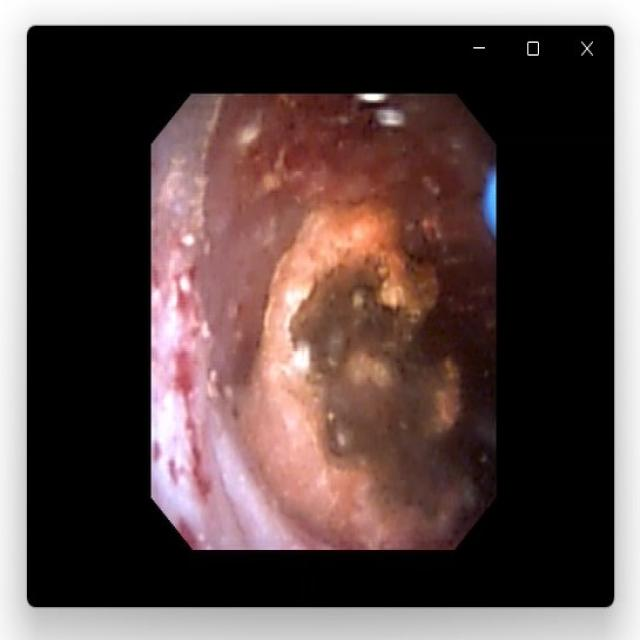stone: (234, 204, 475, 549)
